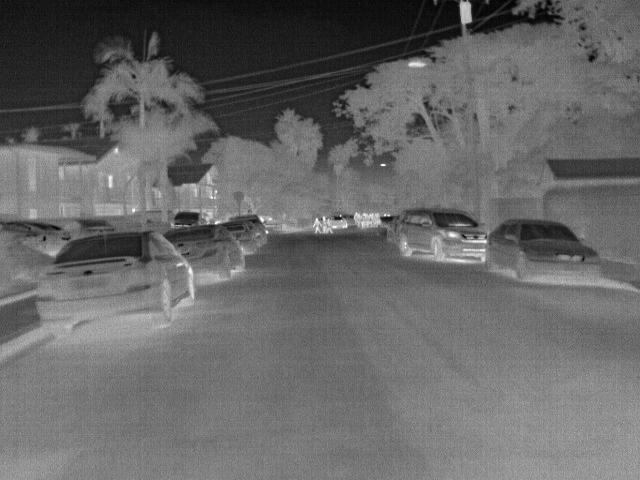car: (36, 228, 194, 343), (486, 221, 603, 285), (390, 209, 492, 263), (165, 224, 242, 284), (5, 220, 72, 252), (221, 221, 258, 255), (61, 218, 116, 240), (232, 213, 268, 245), (174, 211, 210, 230), (327, 214, 350, 230)
person: (310, 216, 323, 235), (323, 216, 336, 234), (360, 212, 369, 231)
